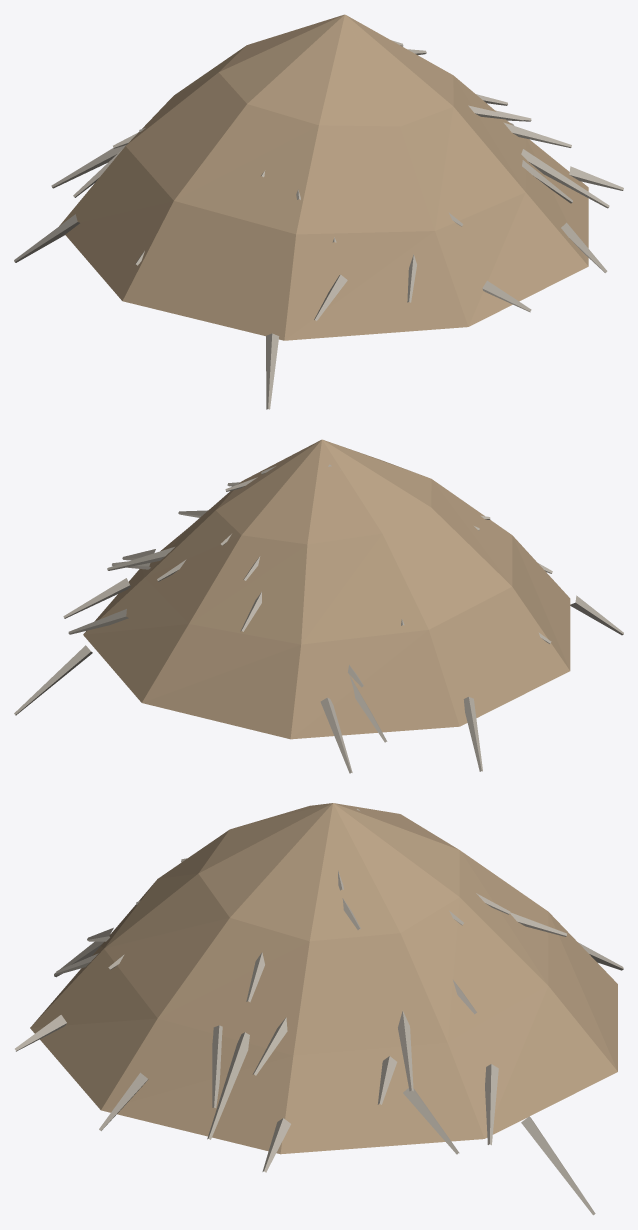
File: temperate-forest-ecology-anthill-wood-ant-5811e826__3879.glb
3 renders of one model, top to bottom at view 1: azimuth 30°, elevation 25°; view 2: azimuth 150°, elevation 25°; view 3: azimuth 270°, elevation 25°, orthographic. The views are drawn at different scales.
Visible parts, largest first — view 1: anthill-wood-ant; view 2: anthill-wood-ant; view 3: anthill-wood-ant.
Part boxes in pixels (x1,y1,x2,y2): anthill-wood-ant: (14, 14, 623, 409); anthill-wood-ant: (14, 439, 623, 773); anthill-wood-ant: (15, 803, 623, 1215).
Bounding box in the file's own units: 1.9 × 0.97 × 1.81.
